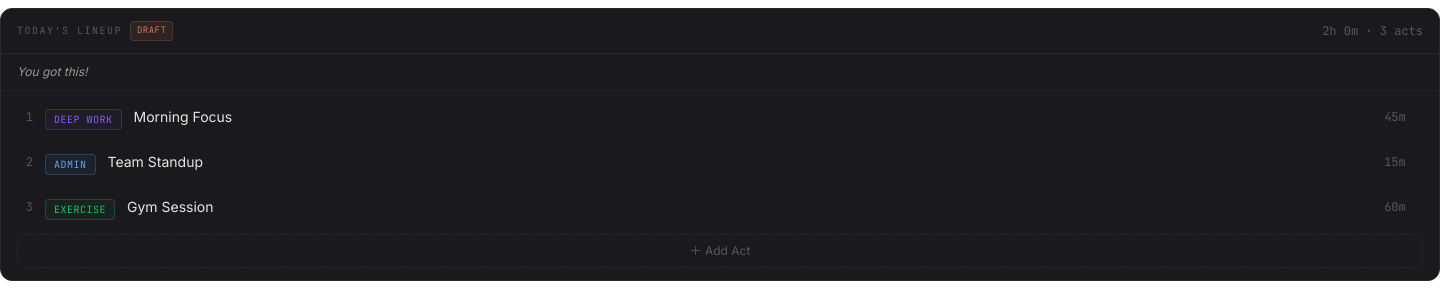
Test: LineupCard › cancels name edit on Escape
The width and height of the screenshot is (1440, 299).
Click the button with test id "act-name-0".
click(183, 116)  # box [134,107,1372,127]
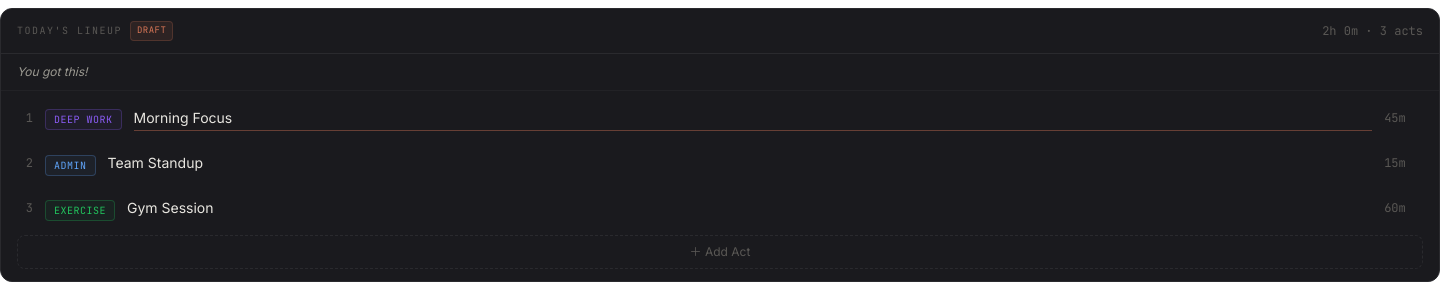
Replace the text in the field with test id "act-name-input-0" with "Something else" at (753, 119), box [134,108,1372,130]
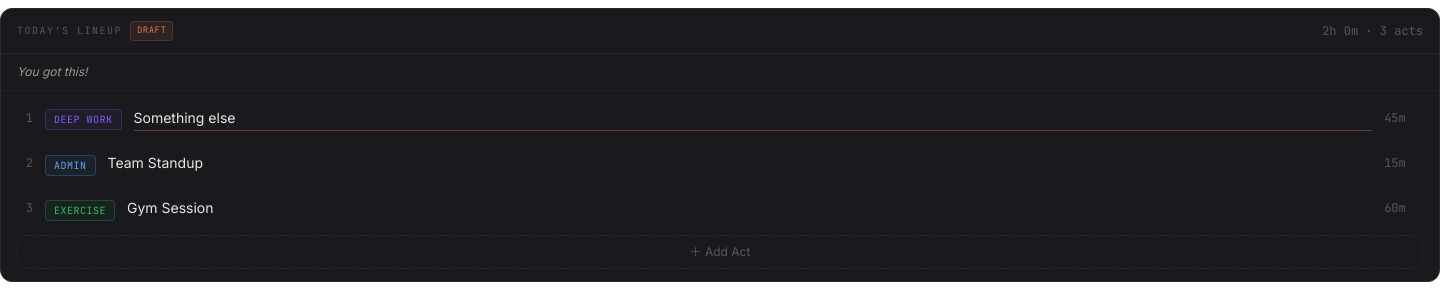
Press Escape in the field with test id "act-name-input-0", box [134,108,1372,130]
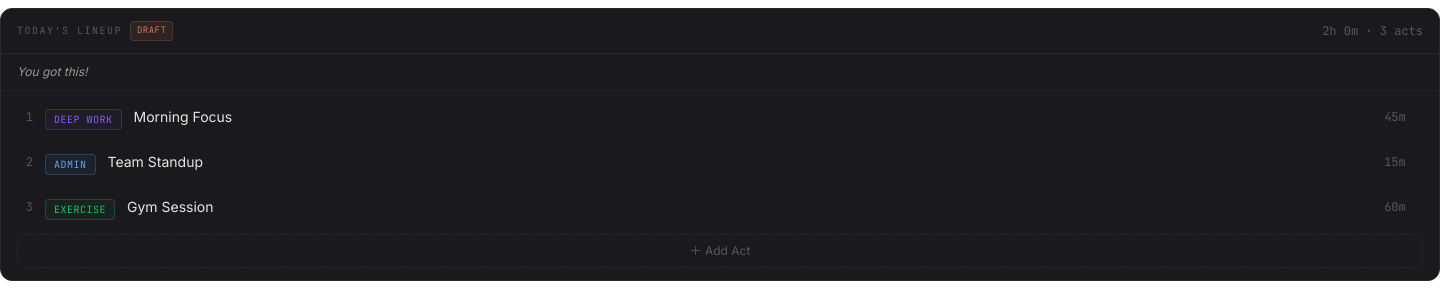
Expected: the button with test id "act-name-0" reads "Morning Focus", [134,107,1372,127]
